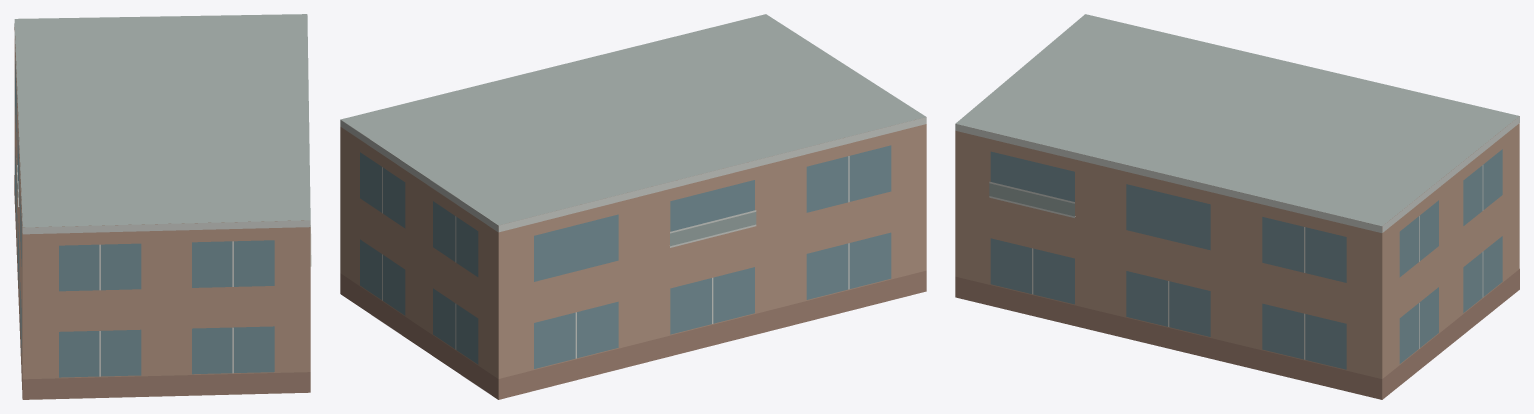
The model's file is survey-upis-32804112.glb.
3 views of the same model, side by side, from view 1: azimuth 30°, elevation 25°; view 2: azimuth 150°, elevation 25°; view 3: azimuth 270°, elevation 25° (orthographic).
Visible parts, largest first — view 1: survey-upis-32804112.tmp; view 2: survey-upis-32804112.tmp; view 3: survey-upis-32804112.tmp.
Boxes of the visible parts, x1,y1,x2,y2 form: survey-upis-32804112.tmp: [14, 14, 311, 399]; survey-upis-32804112.tmp: [340, 14, 926, 399]; survey-upis-32804112.tmp: [955, 14, 1519, 399].
Bounding box in the file's own units: 16.01 × 6.1 × 17.99.
